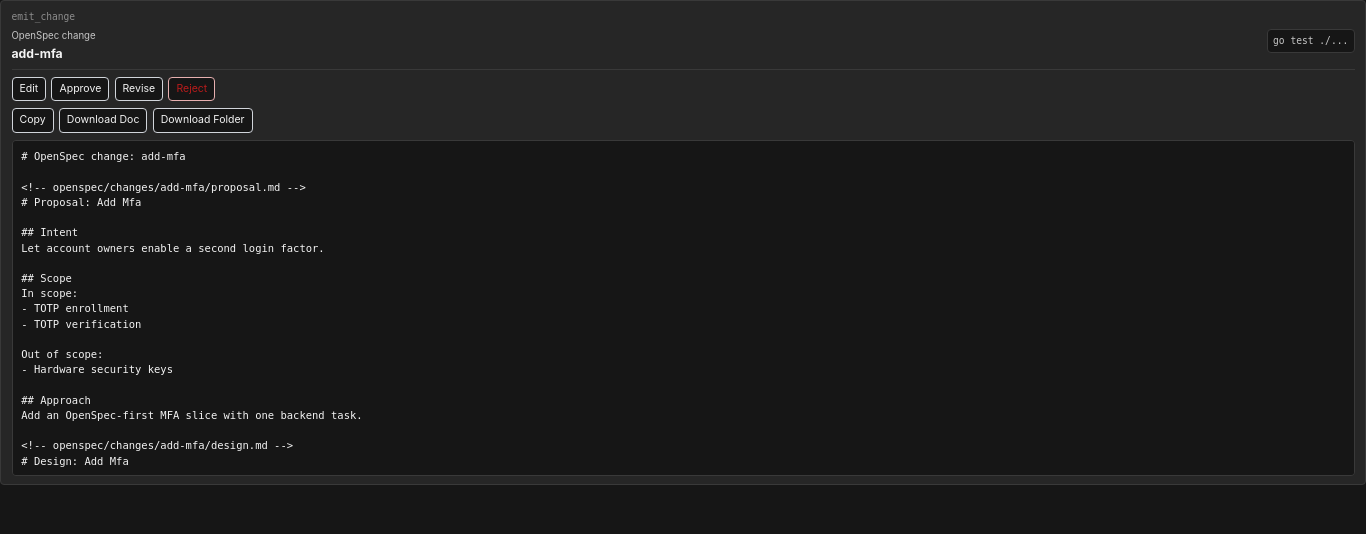
Test: ArtifactCard › exports a markdown handoff document via clipboard
This screenshot has width=1366, height=534.
Click the button with test id "openspec-copy". click: (33, 120)
box: [12, 108, 54, 132]
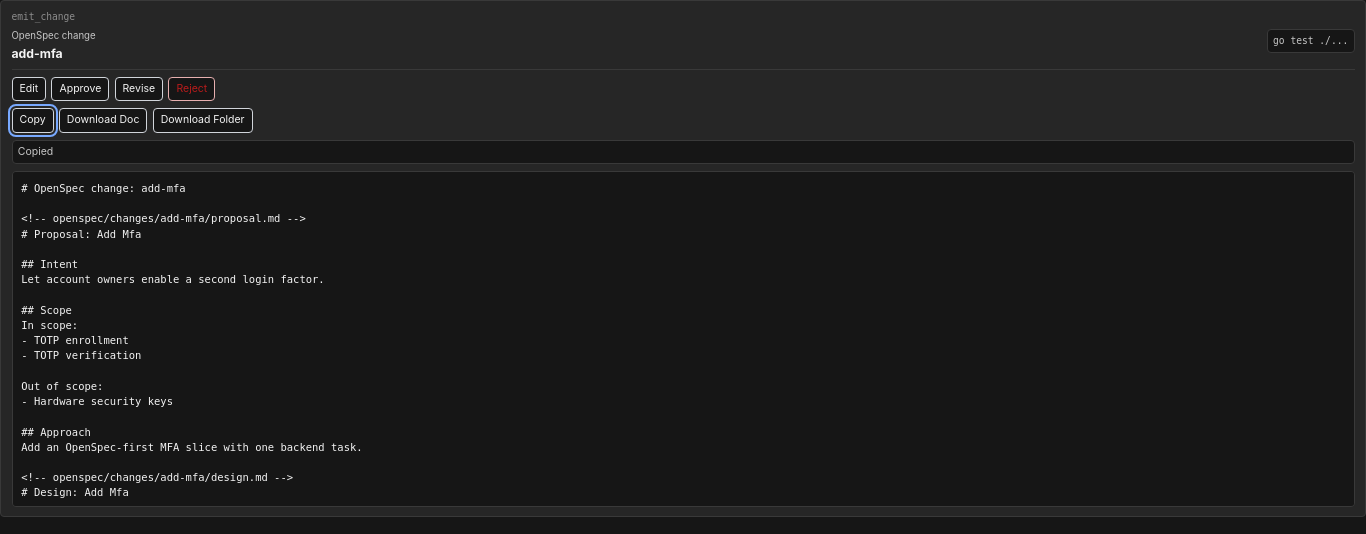
Check: the message with test id "openspec-export-state" reads "Copied", box [18, 145, 53, 158]
